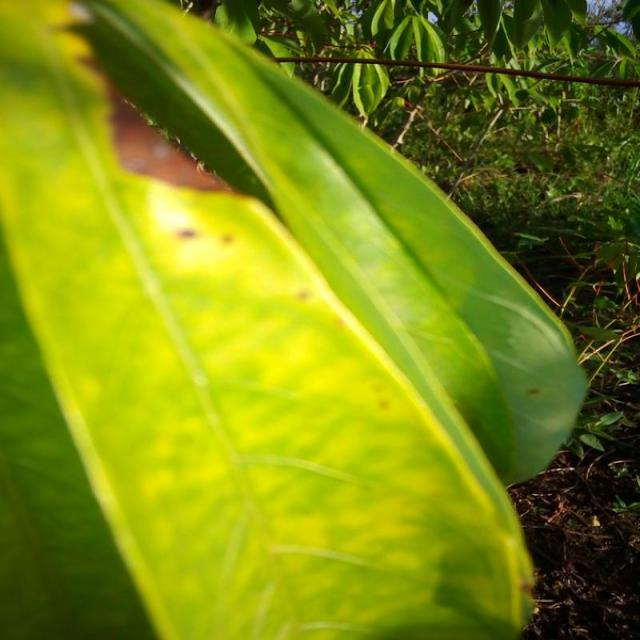cassava leaf: (1, 0, 586, 638)
